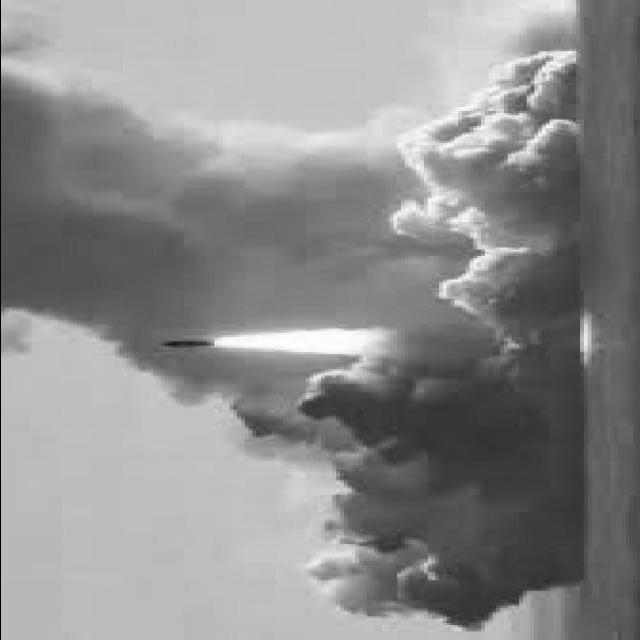Missile: (156, 337, 222, 350)
